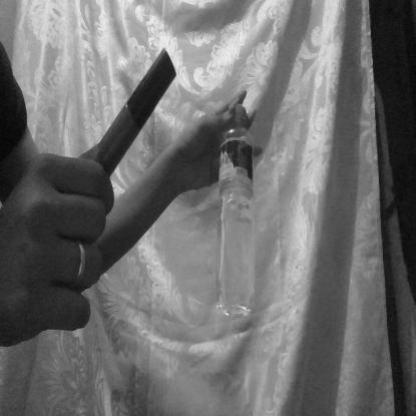Plastic Bottle: (200, 81, 289, 349)
